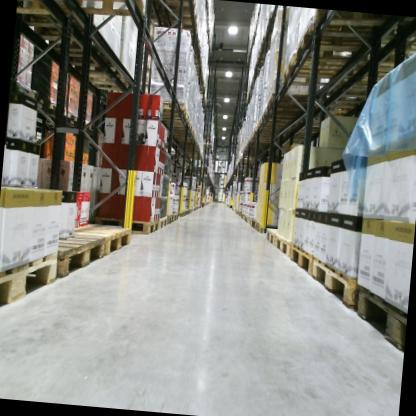pallet: (294, 15, 395, 76), (350, 277, 410, 354), (0, 247, 60, 316), (20, 15, 100, 61), (307, 251, 362, 311), (43, 230, 106, 281), (279, 53, 347, 98), (52, 48, 134, 85), (313, 9, 399, 40), (55, 0, 150, 24), (71, 222, 131, 260), (334, 63, 396, 98), (91, 214, 160, 238), (150, 1, 199, 33), (18, 0, 85, 21), (265, 92, 316, 119), (89, 76, 143, 97), (261, 104, 310, 126), (288, 242, 315, 279), (388, 16, 416, 47), (148, 0, 196, 15), (256, 116, 291, 134), (158, 99, 189, 119), (157, 109, 191, 126), (13, 83, 39, 105), (46, 97, 69, 119), (273, 235, 293, 259), (165, 120, 194, 135), (33, 87, 51, 111), (169, 129, 197, 141), (265, 225, 279, 248), (66, 111, 82, 127), (157, 215, 169, 231), (80, 118, 93, 132), (254, 221, 263, 235), (166, 213, 175, 224), (173, 210, 180, 222), (247, 217, 253, 227), (178, 210, 186, 217), (251, 218, 256, 228), (244, 214, 249, 224), (184, 209, 189, 217), (187, 208, 191, 215)
